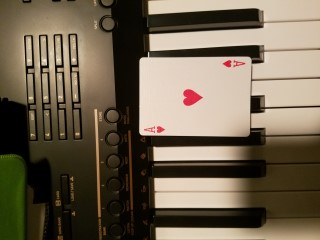AceOfHearts: (136, 56, 254, 139)
